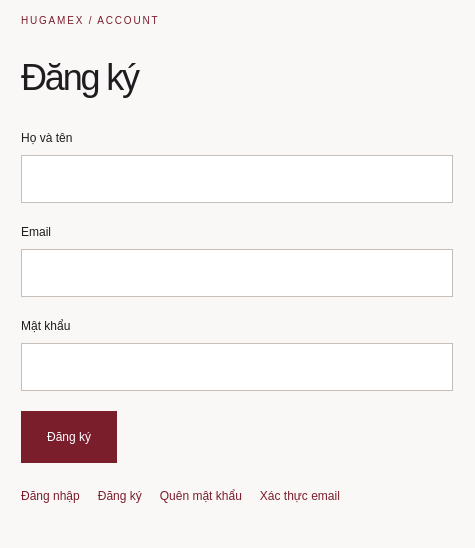
Test case: Authentication and admin › rejects weak registration passwords
The image size is (475, 548).
In the field labelled "Họ và tên": (237, 179) 21,155 -> 453,203, type "Test"
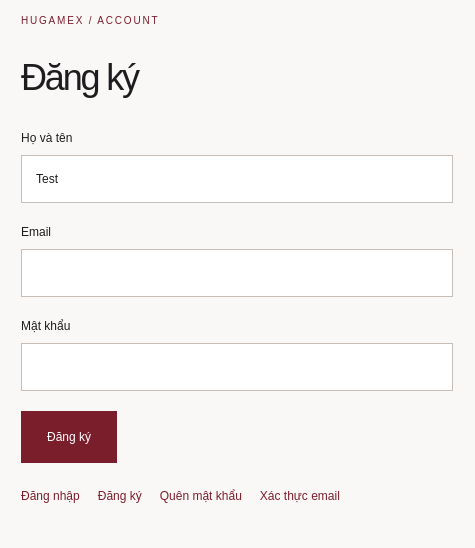
In the field labelled "Email": (237, 273) 21,249 -> 453,297, type "test@example.invalid"
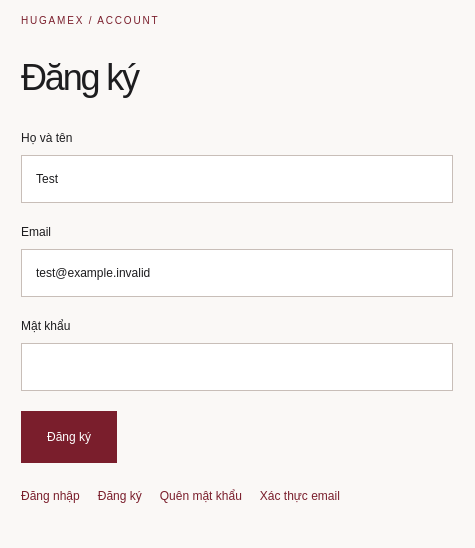
In the password field labelled "Mật khẩu": (237, 367) 21,343 -> 453,391, type "short"
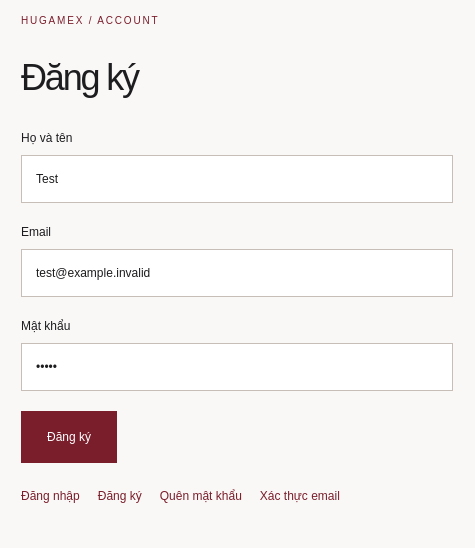
Click the button "Đăng ký": (69, 437) 21,411 -> 117,463
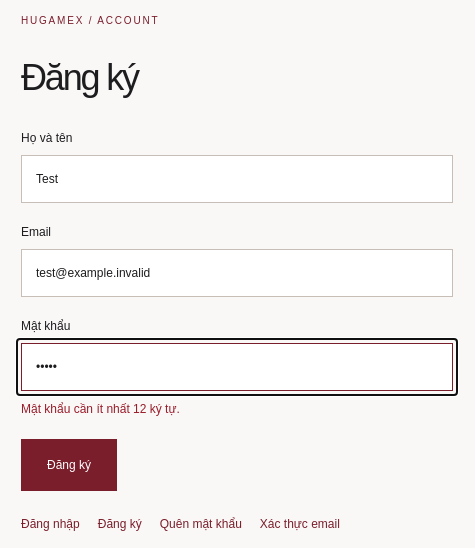
Now the message shows "12 ký tự", box 21,402 -> 180,416
